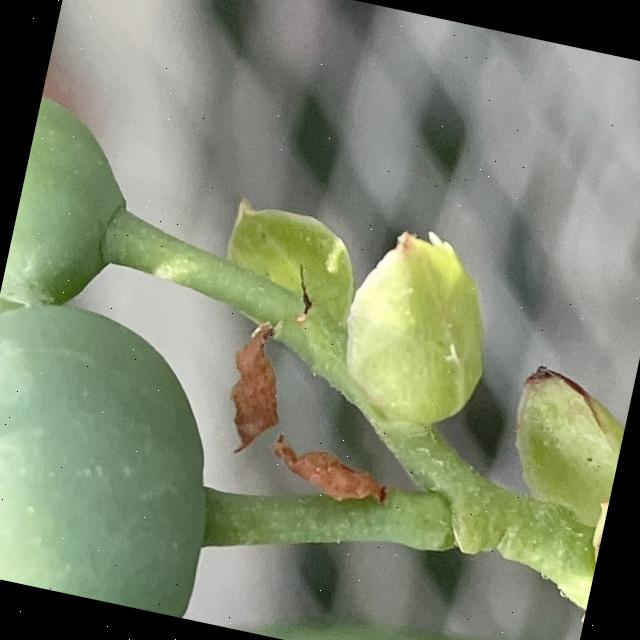Blueberries: (0, 285, 247, 619)
